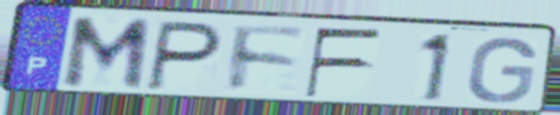1: (415, 32, 453, 103)
F: (302, 26, 386, 100), (227, 23, 309, 96)
G: (463, 35, 540, 106)
M: (59, 15, 155, 94)
P: (142, 18, 226, 94)
